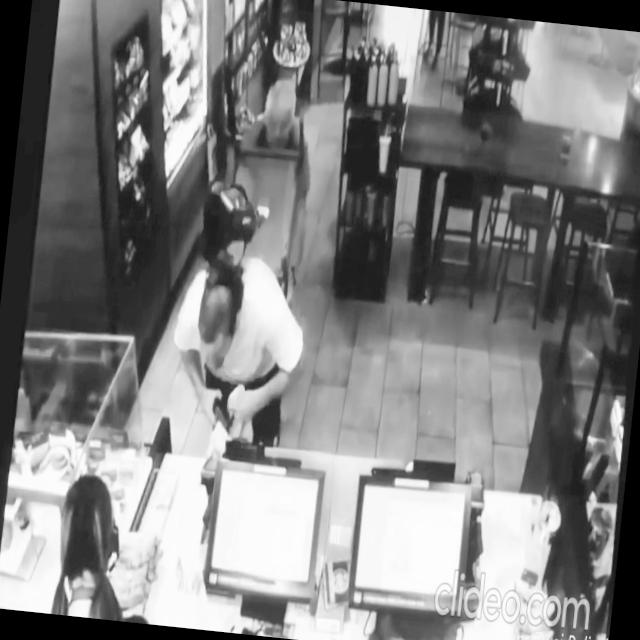gun: (208, 392, 238, 434)
person: (207, 66, 324, 309), (46, 466, 170, 624), (418, 9, 448, 78)
person with a gun: (162, 240, 319, 452)
